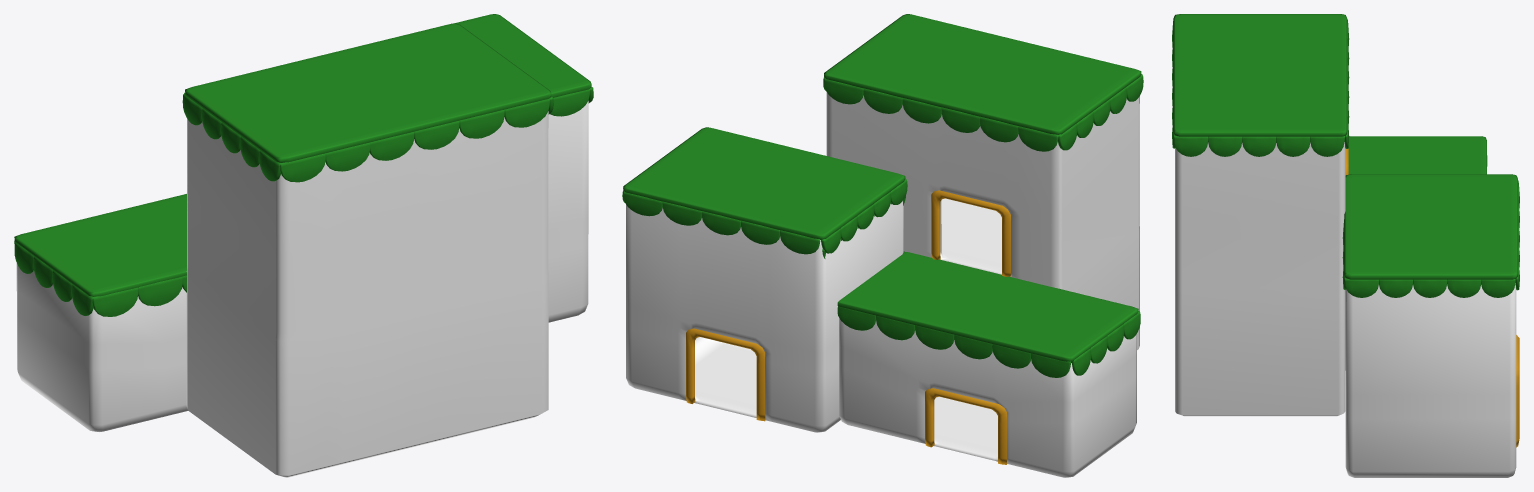
The model's file is HouseWhite3Combined.fbx.
The picture shows the model from 3 angles, left to right: view 1: azimuth 30°, elevation 25°; view 2: azimuth 150°, elevation 25°; view 3: azimuth 270°, elevation 25°; orthographic projection. The views are drawn at different scales.
Parts seen in each view (by area): view 1: HouseTall1; view 2: HouseTall1; view 3: HouseTall1.
Boxes of the visible parts, x1,y1,x2,y2 form: HouseTall1: [14, 14, 593, 477]; HouseTall1: [622, 14, 1143, 477]; HouseTall1: [1172, 14, 1519, 477].
Bounding box in the file's own units: 6.4 × 3.96 × 4.28.
